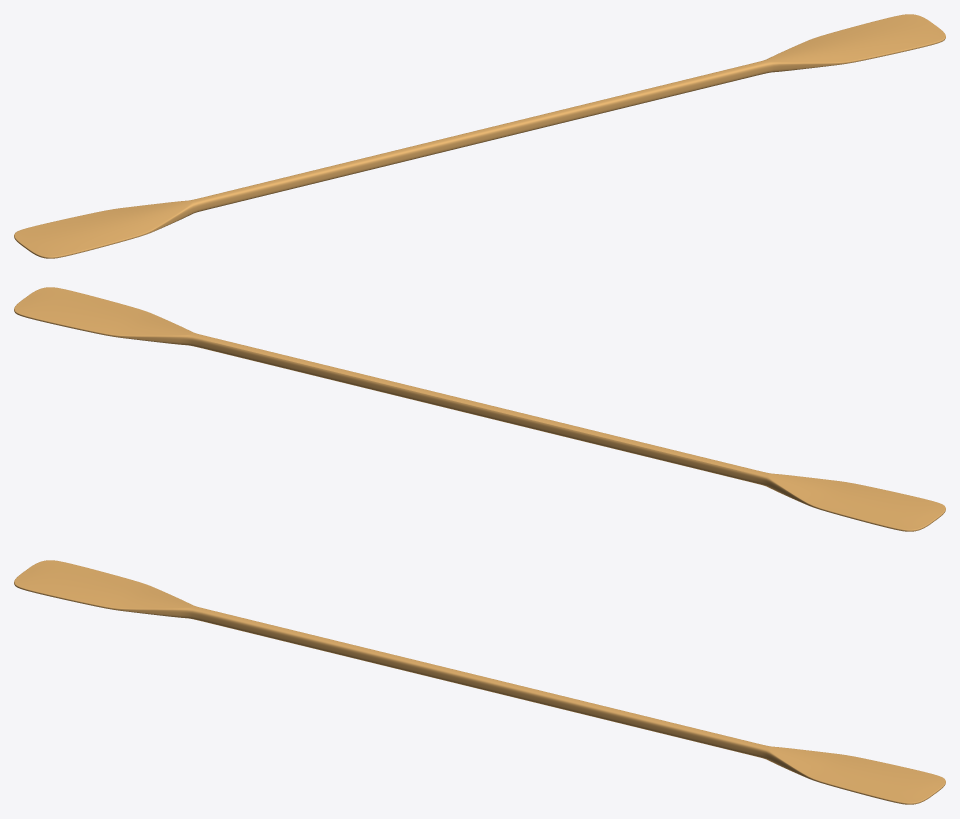
Rendered from paddle.fbx.
3 renders of one model, top to bottom at view 1: azimuth 30°, elevation 25°; view 2: azimuth 150°, elevation 25°; view 3: azimuth 330°, elevation 25°, orthographic.
Visible parts, largest first — view 1: Paddle; view 2: Paddle; view 3: Paddle.
Boxes of the visible parts, <box> form: Paddle: <box>14,14,945,258</box>; Paddle: <box>14,287,945,531</box>; Paddle: <box>14,560,945,804</box>.
Size of the model in its own units: 242 by 2.62 by 17.32.
